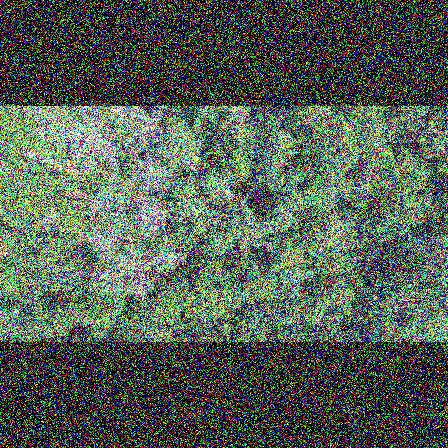Dead: (48, 109, 122, 166), (128, 108, 170, 150), (128, 156, 169, 196), (131, 203, 175, 238), (86, 227, 126, 259), (149, 246, 195, 268), (128, 275, 164, 299)
